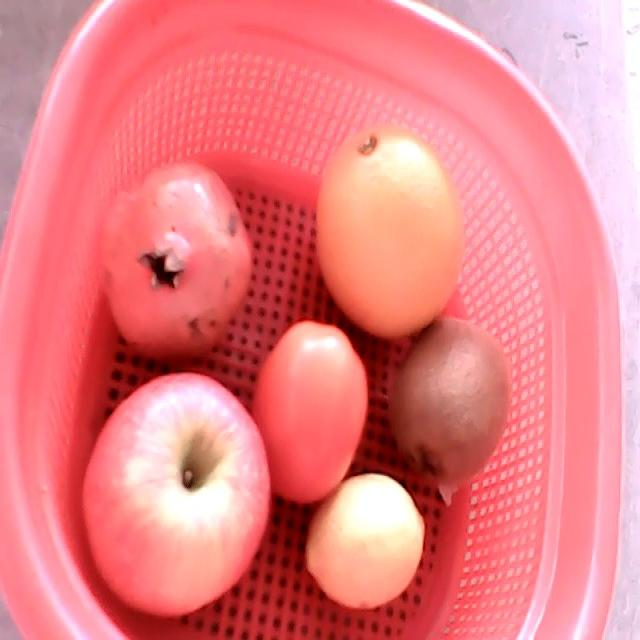apple: (83, 374, 270, 618)
kiwi: (390, 319, 512, 479)
lemon: (305, 473, 426, 610)
orange: (314, 126, 463, 334)
pomegranate: (95, 166, 250, 364)
tomato: (247, 320, 367, 501)
